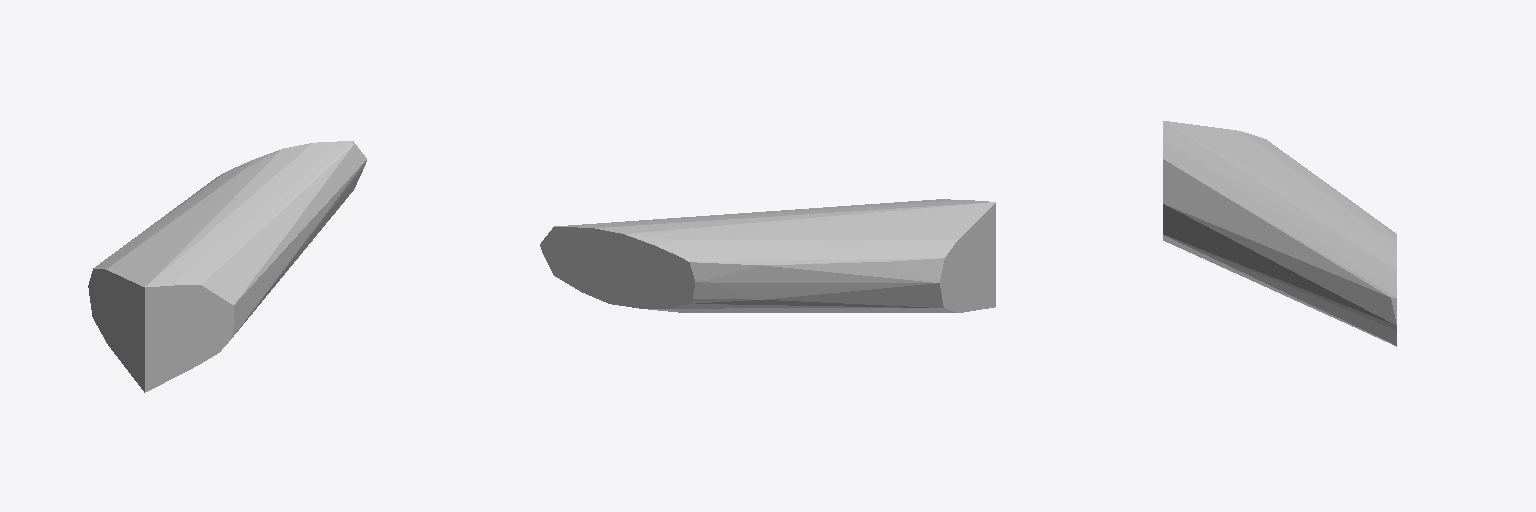
The model's file is table_collision_25.obj.
3 views of the same model, side by side, from view 1: azimuth 30°, elevation 25°; view 2: azimuth 150°, elevation 25°; view 3: azimuth 270°, elevation 25° (orthographic).
Size of the model in its own units: 0.1847 by 0.0547 by 0.1102.